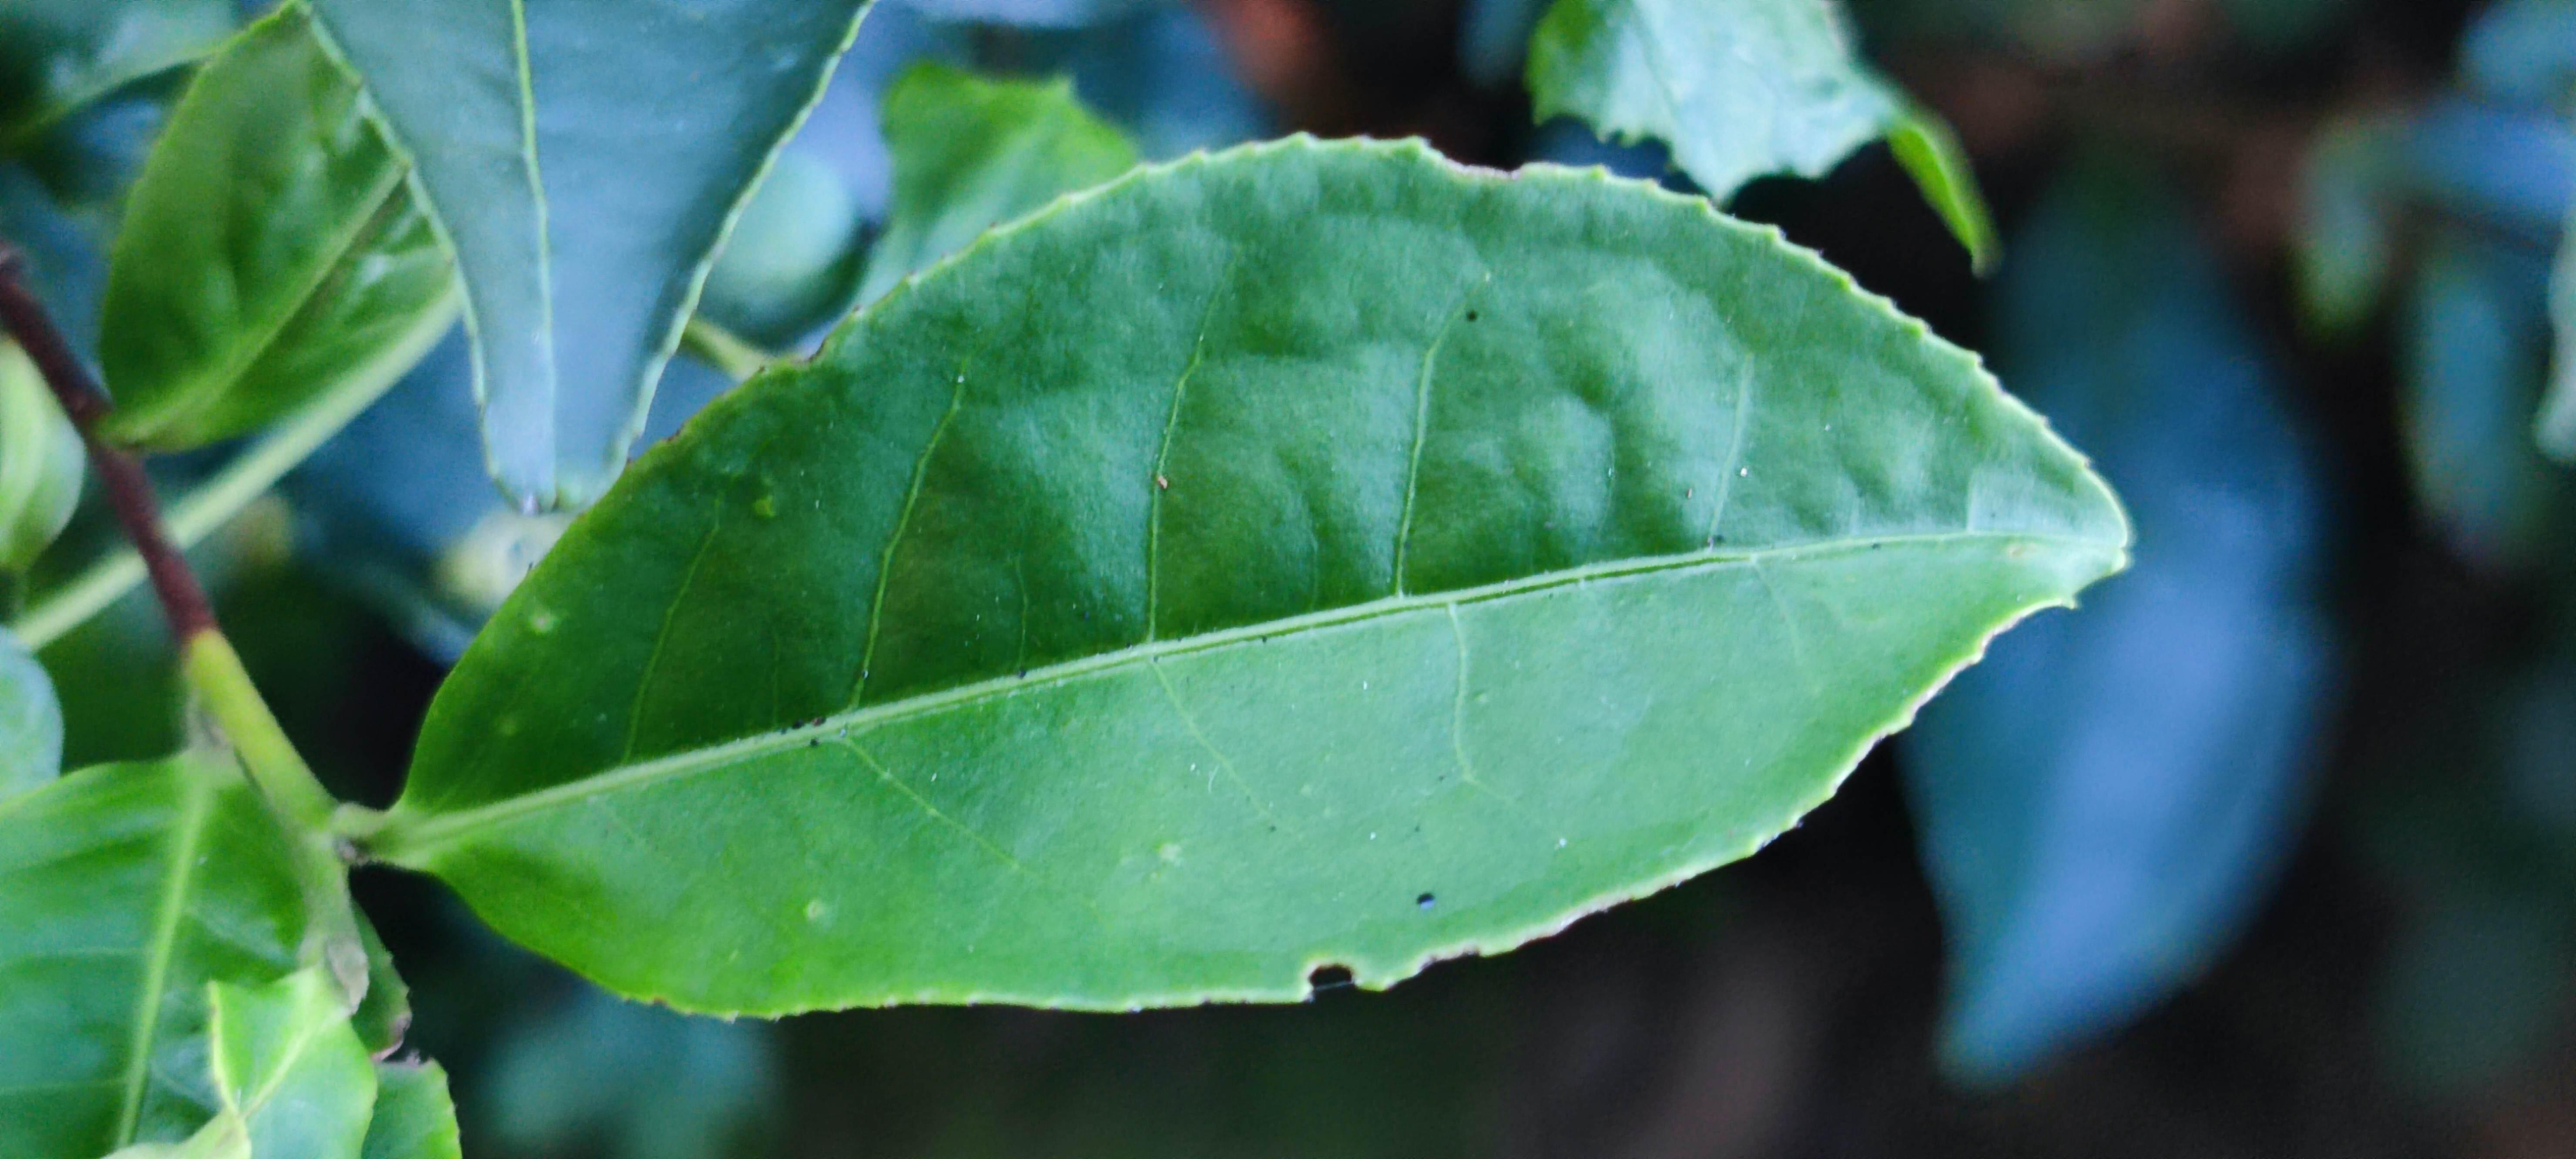chihuo_low: (393, 118, 2136, 1031)
